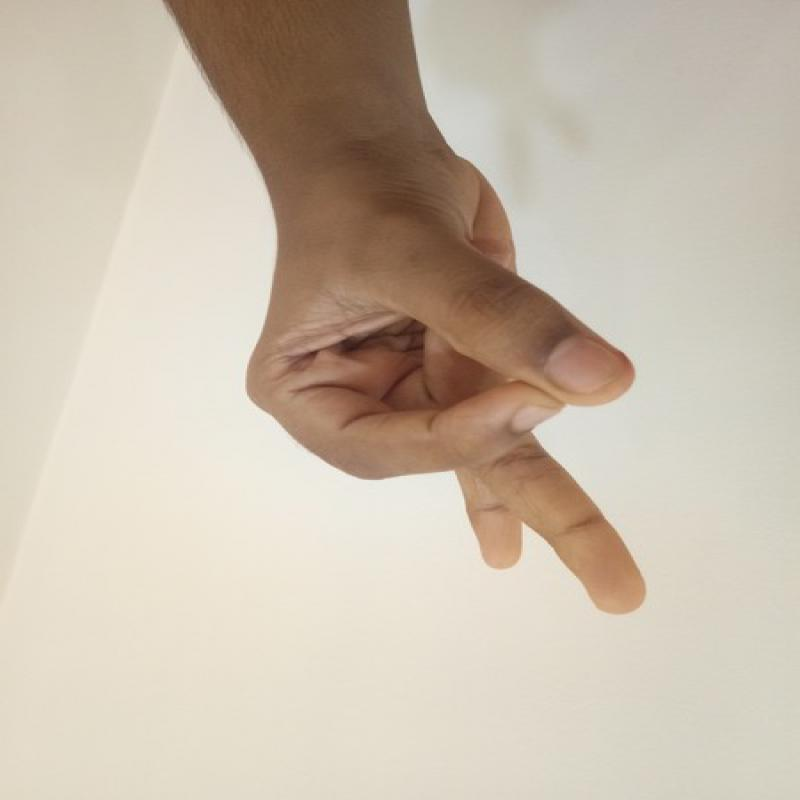Katakam: (196, 144, 711, 627)
